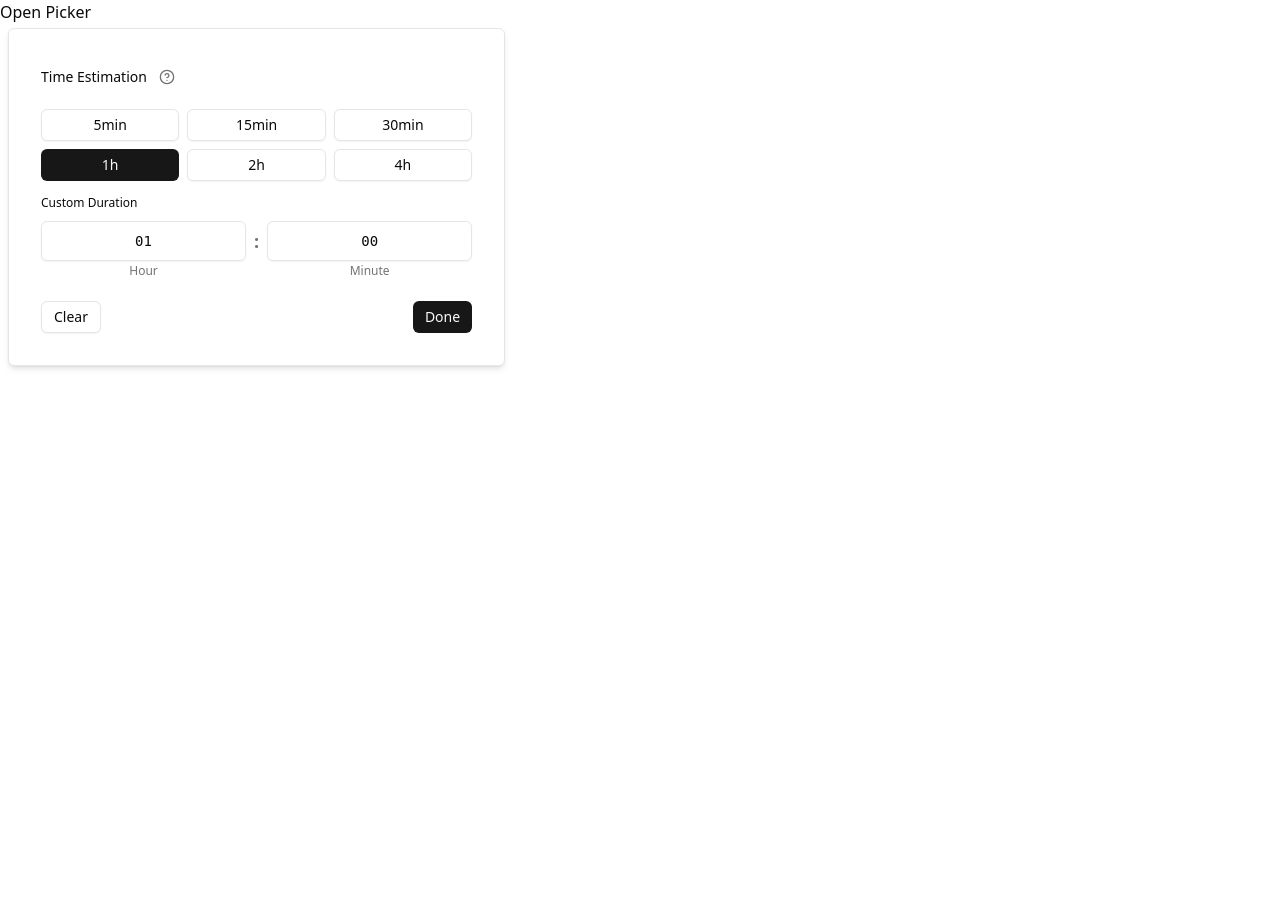
Scenario: TimeEstimationPicker › validation › shows error for minute input out of range
Replace the text in the 2nd field showing "00" with "75" at (370, 241), box [267,221,472,261]
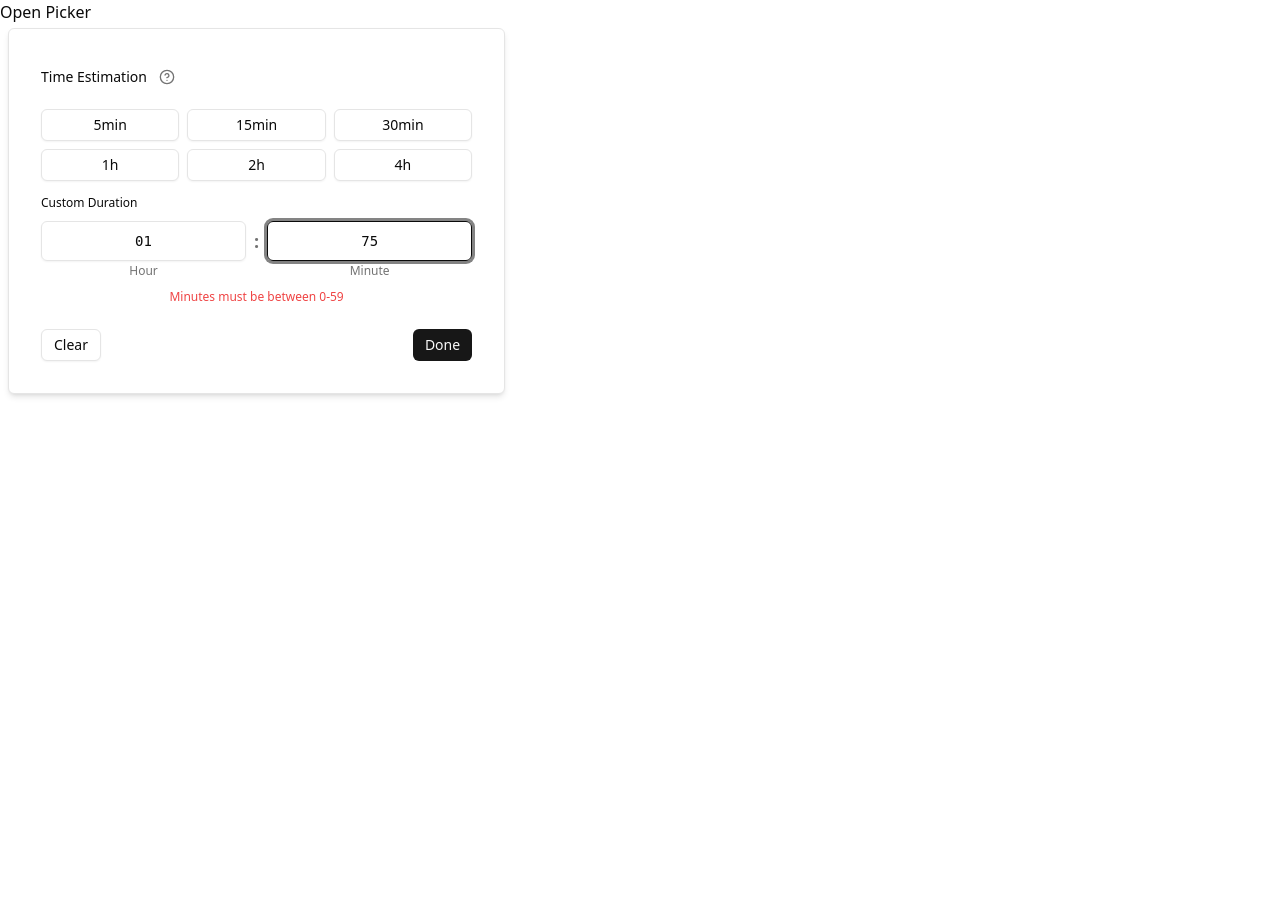
Expected: the text "Minutes must be between 0-59" is shown, [169,288,344,305]
